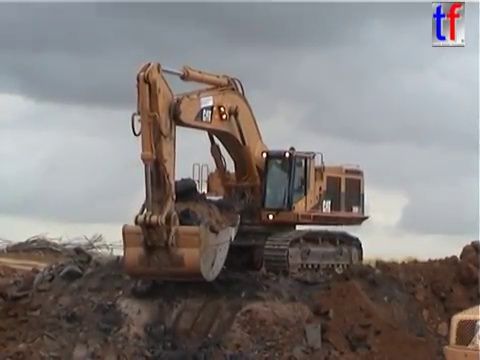excavator: (119, 59, 371, 286)
truck: (439, 302, 480, 360)
